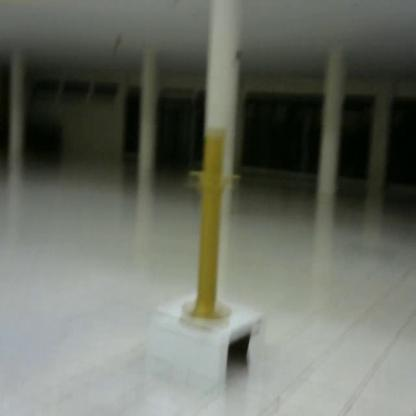pole: (180, 130, 241, 330)
